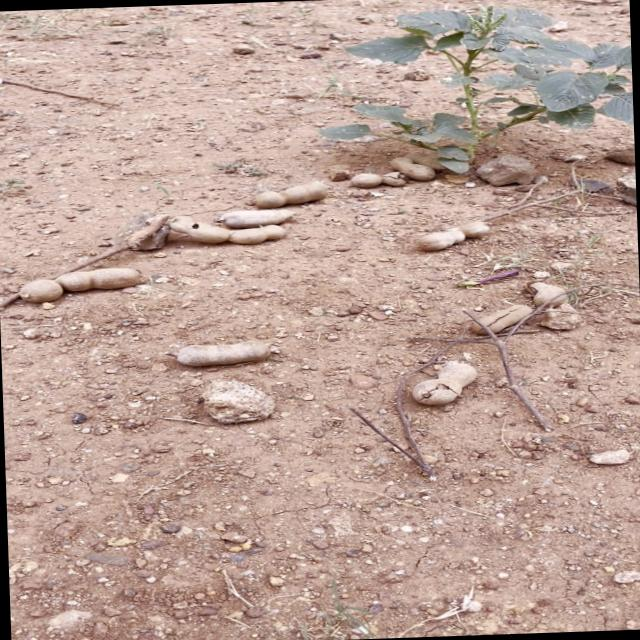tamarind: (13, 262, 148, 302), (158, 210, 292, 250), (412, 348, 484, 414), (168, 338, 272, 367), (420, 220, 490, 249), (252, 180, 324, 208), (464, 304, 528, 332), (387, 154, 432, 180)
